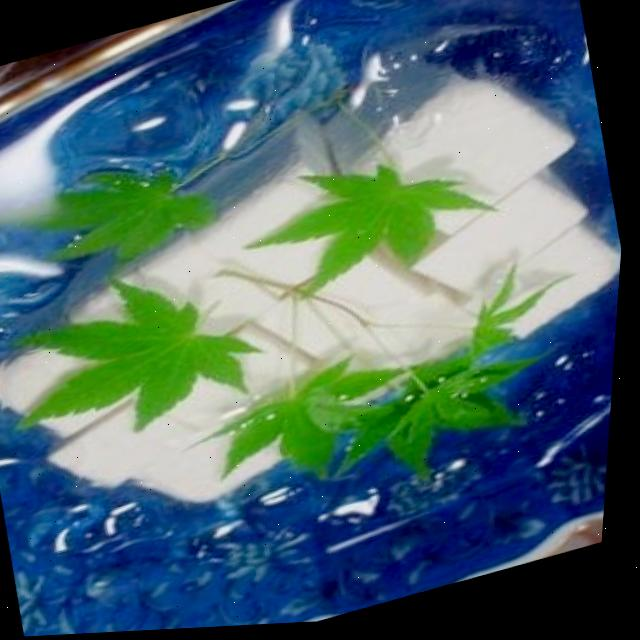豆腐料理: (0, 15, 638, 565)
